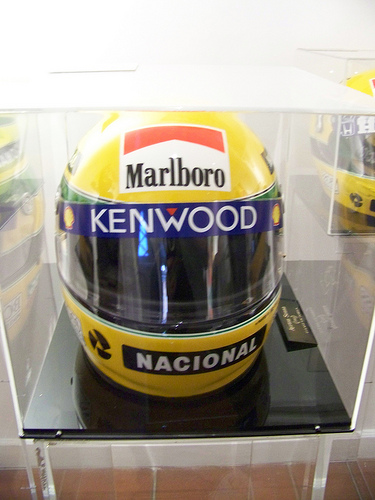helmet: (42, 114, 296, 387)
